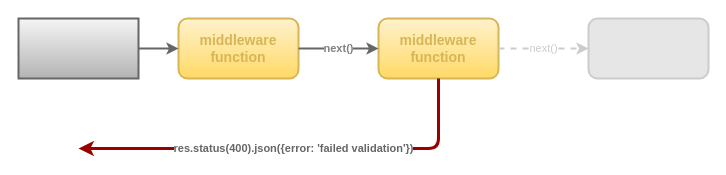
This 726x175 diagram has some shape labels left out. The centre of each missing label's shape, as x and y in pixels:
/endpoint: the point at 78,48
controller middleware function: the point at 648,48
